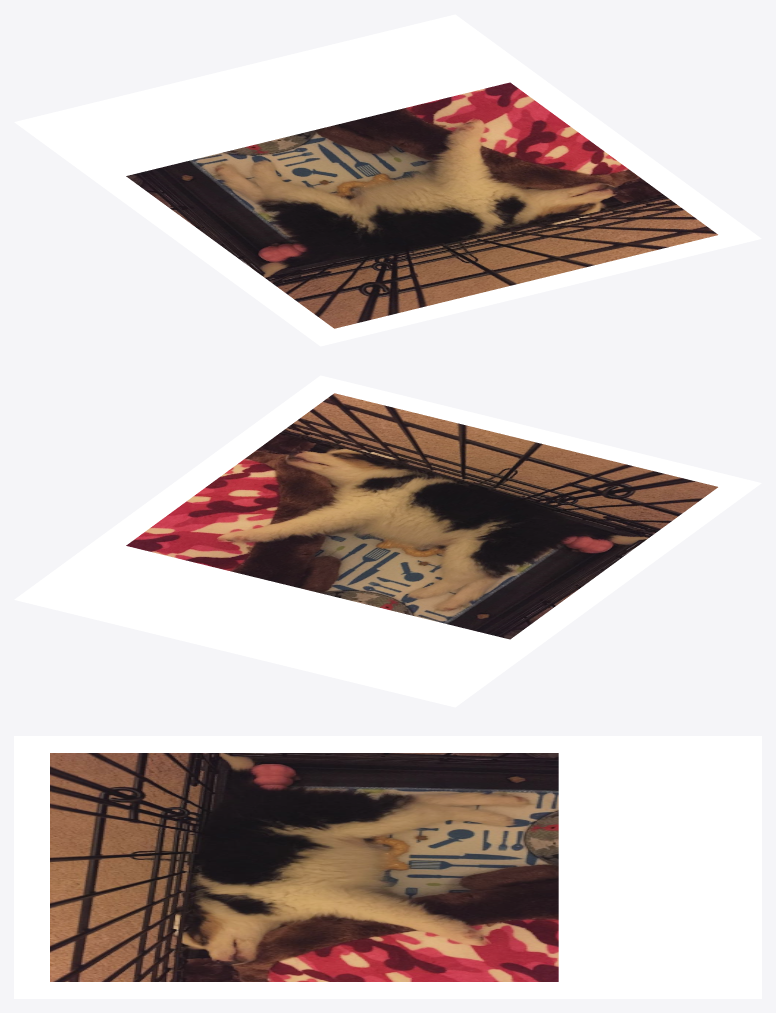
File: photo.fbx
The picture shows the model from 3 angles, top to bottom: view 1: azimuth 30°, elevation 25°; view 2: azimuth 150°, elevation 25°; view 3: azimuth 270°, elevation 25°; orthographic projection. The views are drawn at different scales.
Visible parts, largest first — view 1: Plane; view 2: Plane; view 3: Plane.
Part boxes in pixels (box(x1,y1,x2,y2)): Plane: box(14, 14, 761, 346); Plane: box(14, 375, 761, 707); Plane: box(14, 736, 761, 998).
Size of the model in its own units: 0.457 by 0.000451 by 0.5499.
2 materials, 1 textured.
